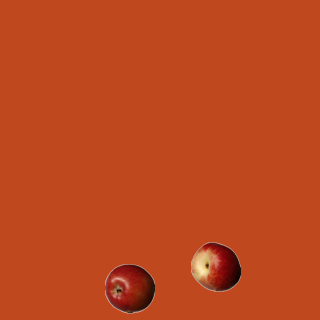Apple Braeburn: (104, 263, 154, 313)
Nectarine: (190, 241, 240, 291)
